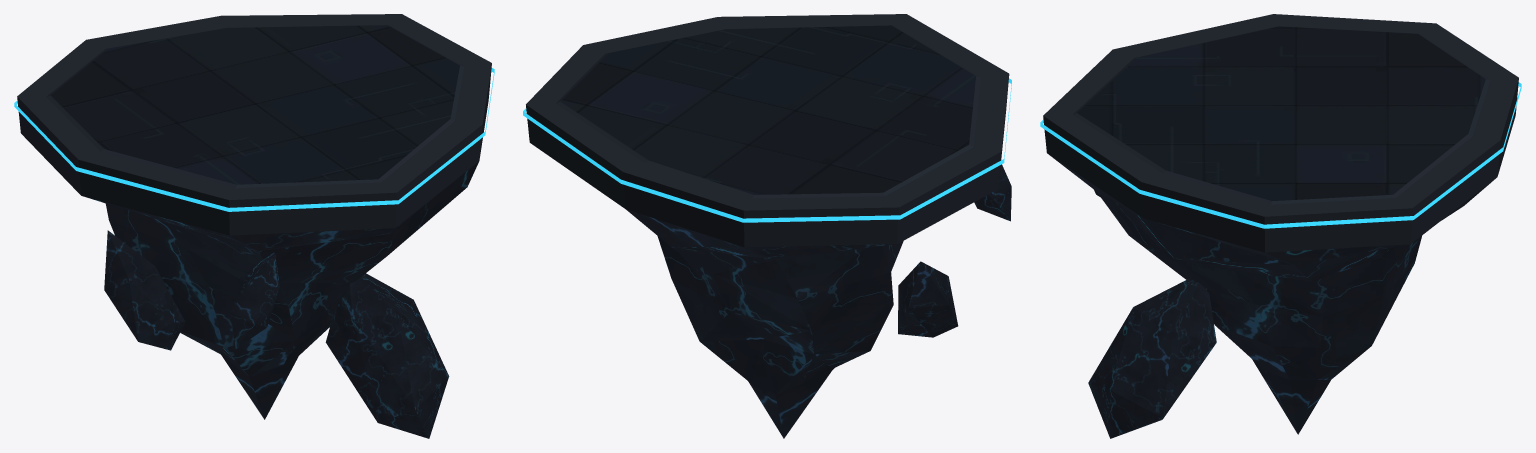
File: ch2-island-s.glb
3 views of the same model, side by side, from view 1: azimuth 30°, elevation 25°; view 2: azimuth 150°, elevation 25°; view 3: azimuth 270°, elevation 25° (orthographic). The views are drawn at different scales.
Parts seen in each view (by area): view 1: deck, shard_3, shard_1, shard_2, edge; view 2: deck, shard_1, edge, shard_2; view 3: deck, shard_3, edge.
Part boxes in pixels (bbox=[...]): deck: bbox=[17, 14, 491, 419]; shard_3: bbox=[325, 273, 449, 438]; shard_1: bbox=[104, 230, 185, 350]; shard_2: bbox=[230, 252, 280, 348]; edge: bbox=[14, 68, 494, 211]; deck: bbox=[526, 14, 1009, 438]; shard_1: bbox=[898, 261, 958, 337]; edge: bbox=[523, 78, 1011, 222]; shard_2: bbox=[974, 164, 1011, 221]; deck: bbox=[1043, 14, 1518, 434]; shard_3: bbox=[1088, 279, 1216, 438]; edge: bbox=[1040, 82, 1521, 228].
Bounding box in the file's own units: 5.28 × 3.89 × 5.24.
Materials: 4 (2 with a texture image).
